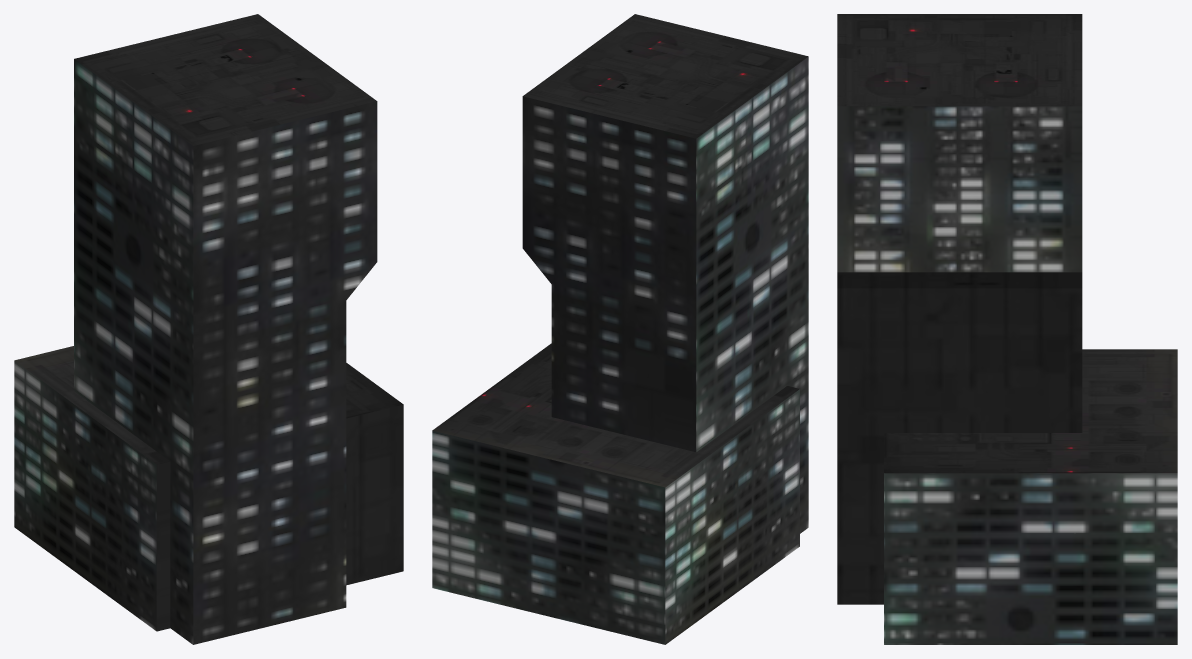
Rendered from scifi_building_19.obj.
3 views of the same model, side by side, from view 1: azimuth 30°, elevation 25°; view 2: azimuth 150°, elevation 25°; view 3: azimuth 270°, elevation 25° (orthographic). The views are drawn at different scales.
Visible parts, largest first — view 1: building_19; view 2: building_19; view 3: building_19.
Boxes of the visible parts, x1,y1,x2,y2 form: building_19: (14, 14, 403, 644); building_19: (432, 14, 808, 644); building_19: (837, 14, 1177, 644).
Bounding box in the file's own units: 42.24 × 81.53 × 49.
1 material, 1 textured.
